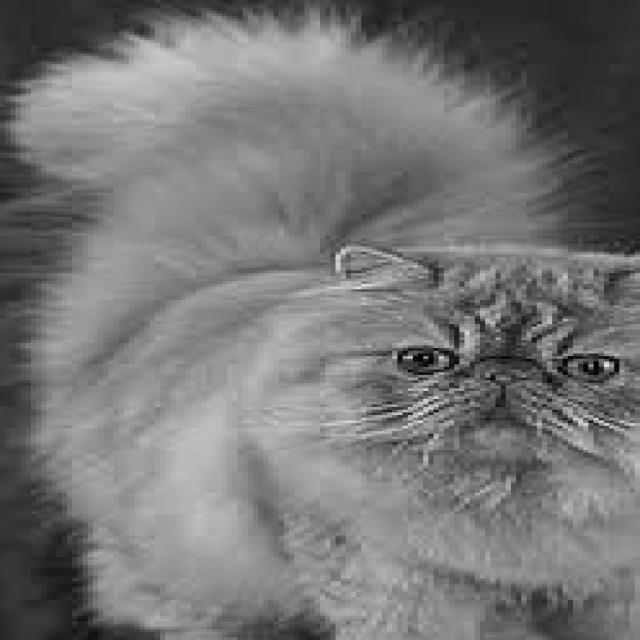iran: (330, 297, 640, 477)
